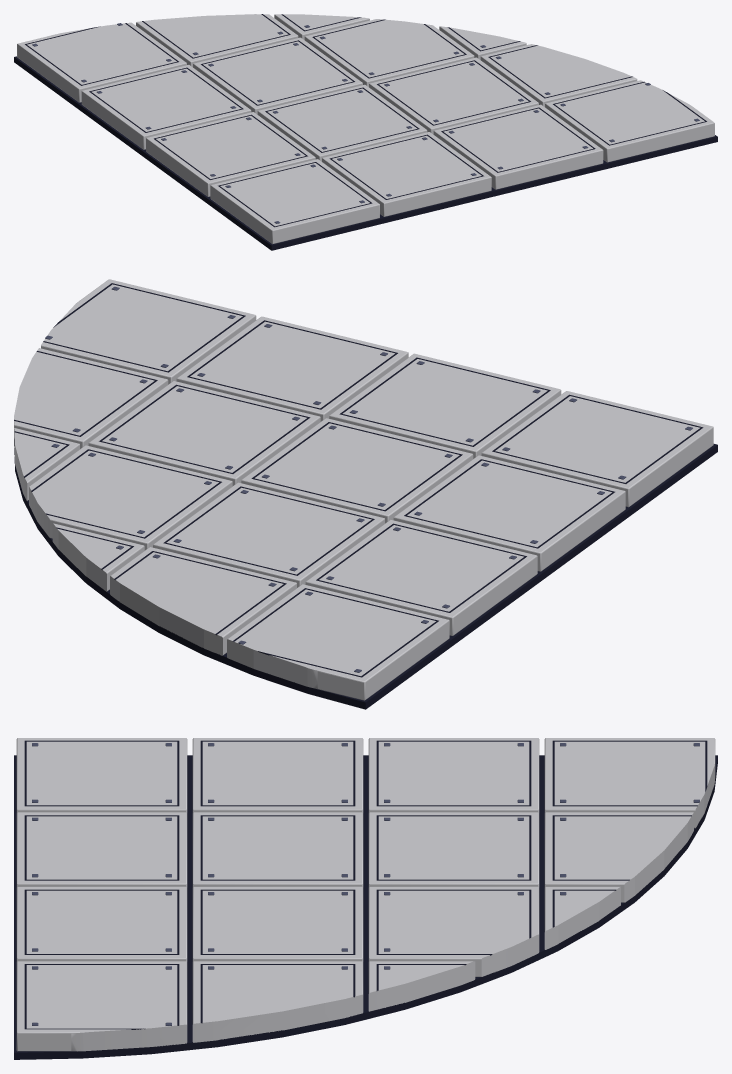
Rendered from roof.arc4.light.glb.
3 renders of one model, top to bottom at view 1: azimuth 30°, elevation 25°; view 2: azimuth 150°, elevation 25°; view 3: azimuth 270°, elevation 25°, orthographic. The views are drawn at different scales.
Parts seen in each view (by area): view 1: GEO-roof.arc4.light; view 2: GEO-roof.arc4.light; view 3: GEO-roof.arc4.light.
Boxes of the visible parts, x1,y1,x2,y2 form: GEO-roof.arc4.light: (14,14,717,250); GEO-roof.arc4.light: (14,279,717,709); GEO-roof.arc4.light: (14,738,717,1059).
Bounding box in the file's own units: 4 × 0.17 × 4.
